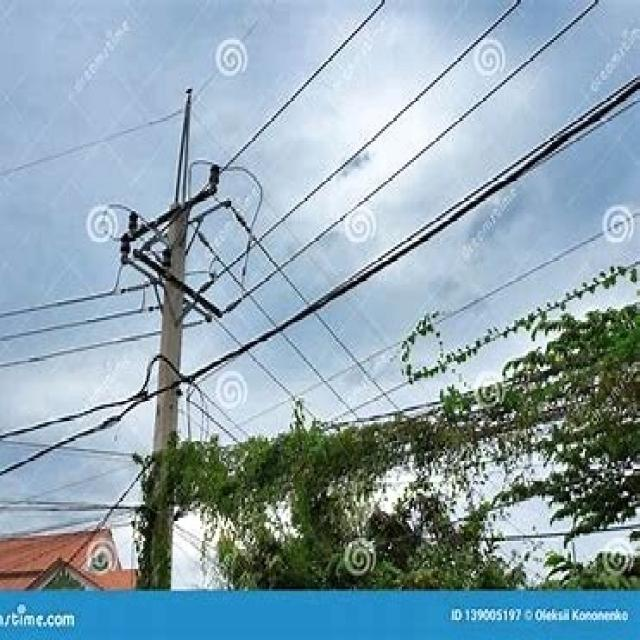critical vegetation: (164, 373, 637, 537)
